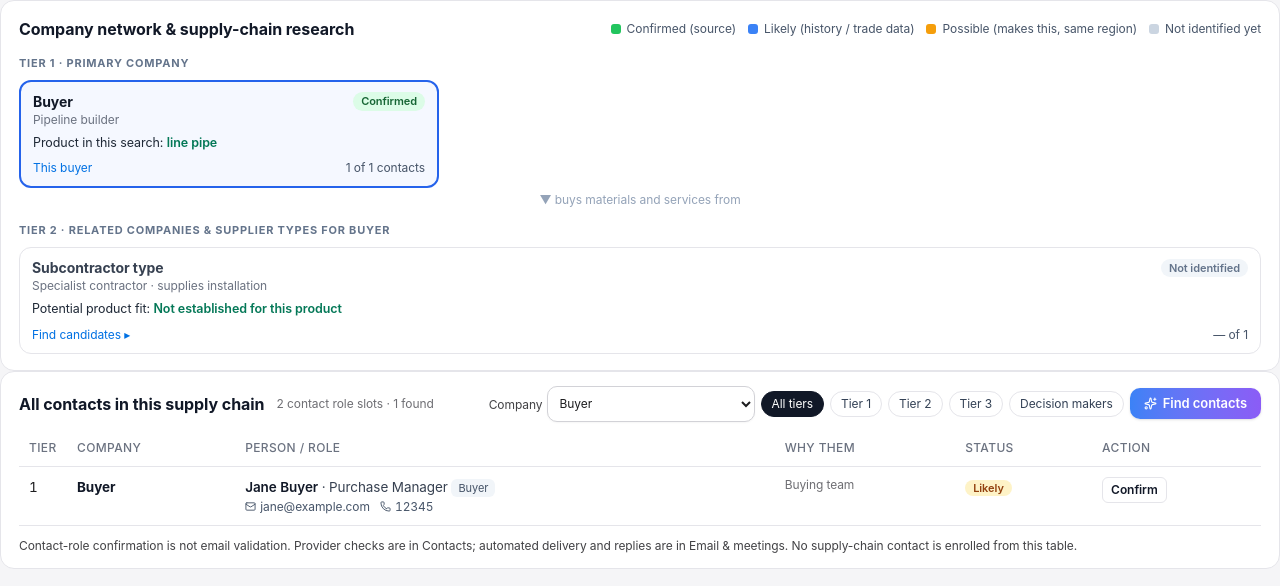
Test: restored scoped contact and supply-chain tools › retains tier-2 context but shows product fit only for the searched product
The image size is (1280, 586).
Expected: the heading "Company network & supply-chain research" is shown, [19,17,354,41]
Expected: the heading "Tier 1 · primary company" is shown, [19,56,189,70]
Select "Subcontractor type (not identified)" in the dropdown named "Contact company" at {"x": 650, "y": 404}, box [546,386,754,422]
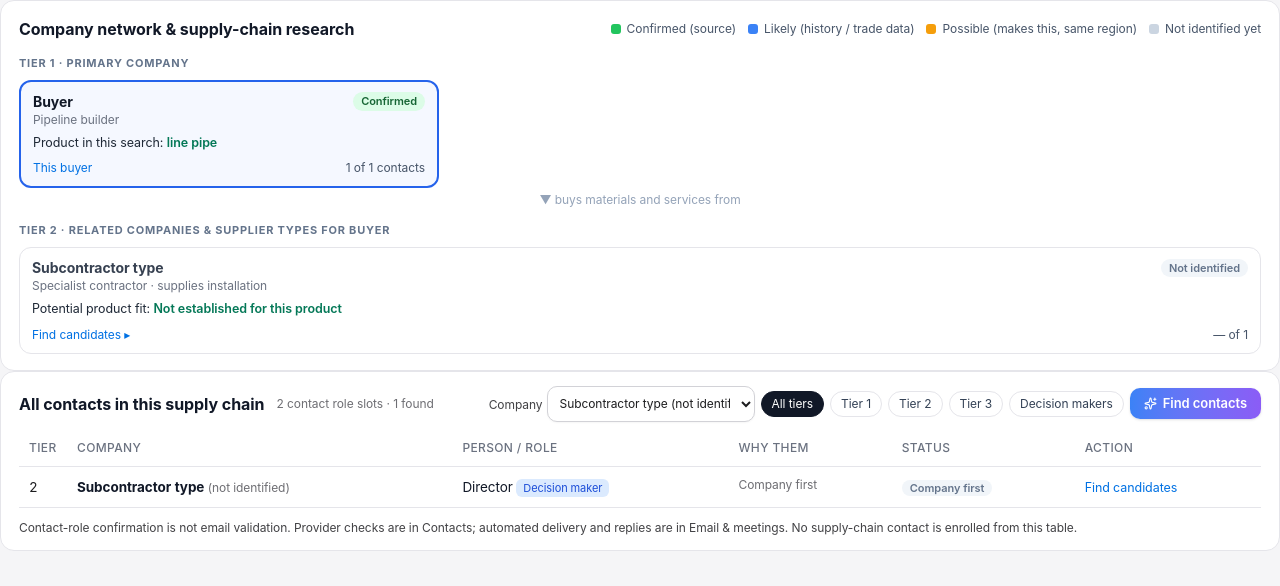
Result: the text "Subcontractor type" next to "(not identified)" is shown at [77,478,204,494]
Result: the text "Jane Buyer" is gone
